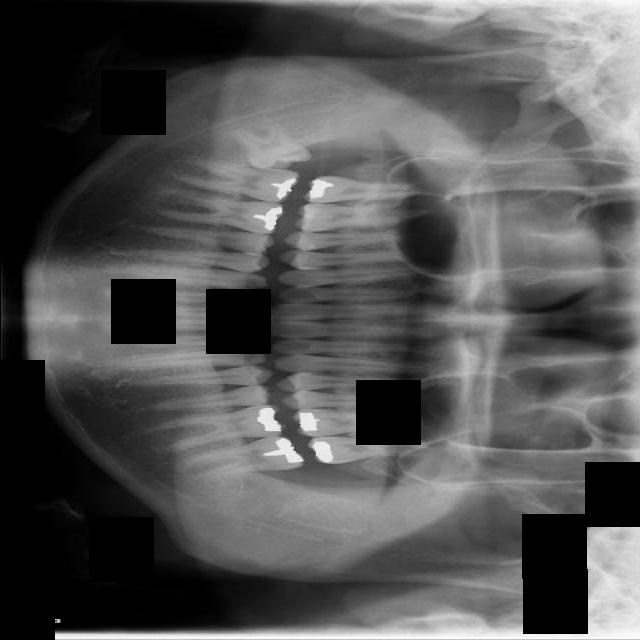52: (248, 430, 304, 476), (245, 168, 300, 203), (234, 200, 283, 236), (291, 406, 345, 438), (235, 403, 284, 437), (309, 432, 356, 466), (299, 175, 354, 203)
73: (42, 614, 62, 618)
BioHorizons Implant: (306, 437, 433, 464)
Blue Sky Bio Implant: (178, 432, 303, 483)
Caries: (299, 176, 414, 203)
Implant: (173, 155, 300, 206)
Keystone Dental Implant: (233, 120, 314, 177)
